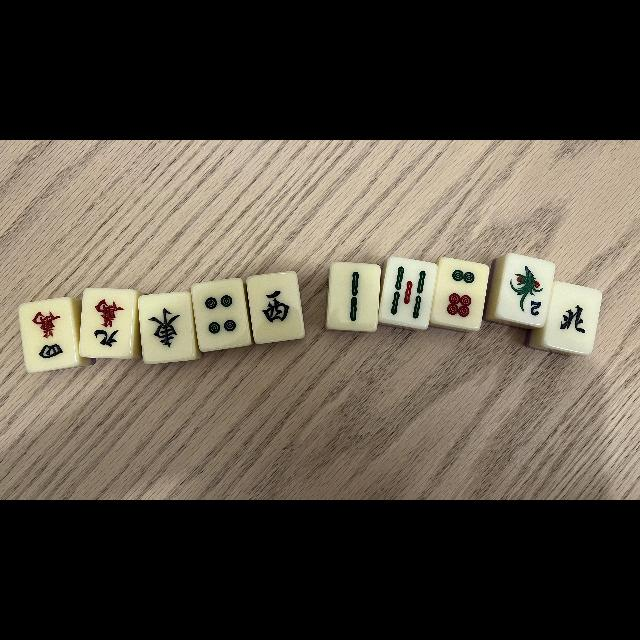b2: (331, 262, 377, 330)
b5: (384, 260, 431, 326)
c4: (22, 302, 76, 368)
c9: (82, 290, 132, 356)
d4: (196, 282, 247, 346)
d6: (436, 259, 484, 327)
f2-s: (502, 256, 550, 322)
we: (141, 295, 191, 359)
wn: (550, 283, 596, 349)
ww: (252, 274, 300, 340)
